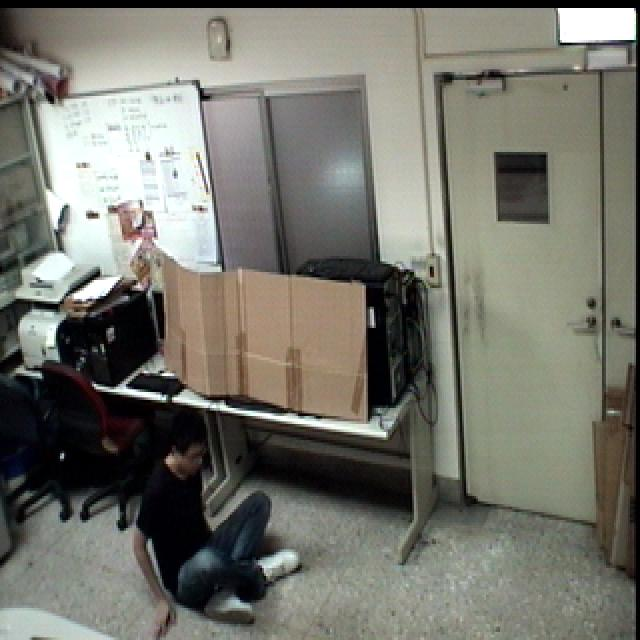sit: (124, 401, 306, 640)
